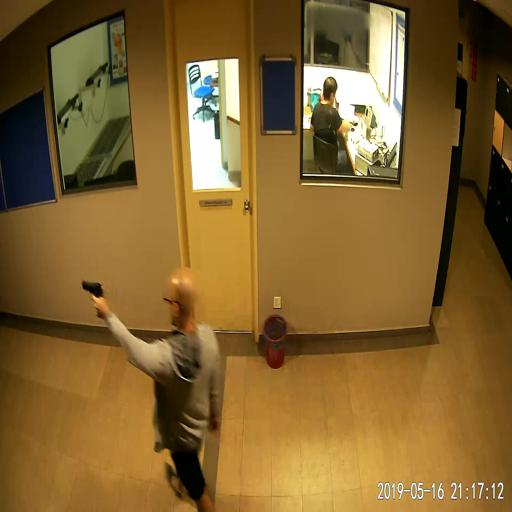pistol: (82, 280, 104, 318)
